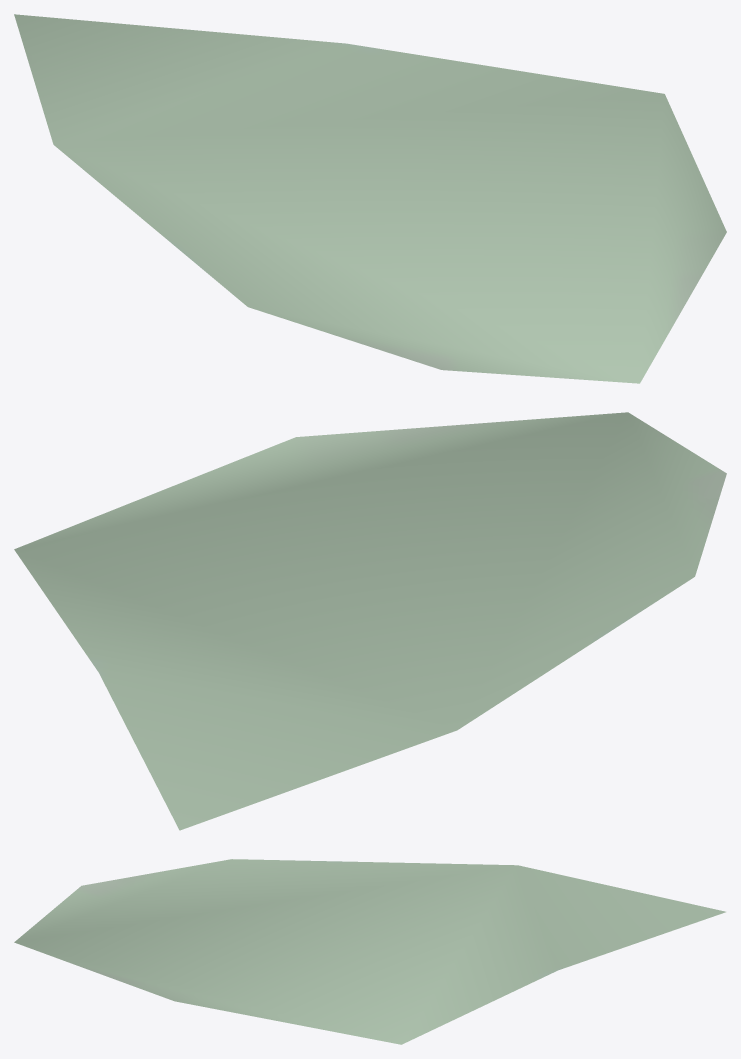
File: TROLLHOLE02_HOLECAP146.fbx
3 views of the same model, one above another, from view 1: azimuth 30°, elevation 25°; view 2: azimuth 150°, elevation 25°; view 3: azimuth 270°, elevation 25° (orthographic). The views are drawn at different scales.
Visible parts, largest first — view 1: TROLLHOLE02_HOLECAP146; view 2: TROLLHOLE02_HOLECAP146; view 3: TROLLHOLE02_HOLECAP146.
Boxes of the visible parts, left/top/right/bottom form: TROLLHOLE02_HOLECAP146: left=14, top=14, right=726, bottom=383; TROLLHOLE02_HOLECAP146: left=14, top=412, right=726, bottom=830; TROLLHOLE02_HOLECAP146: left=14, top=859, right=725, bottom=1044.
Size of the model in its own units: 27900 by 679 by 47428.
1 material, 1 textured.
